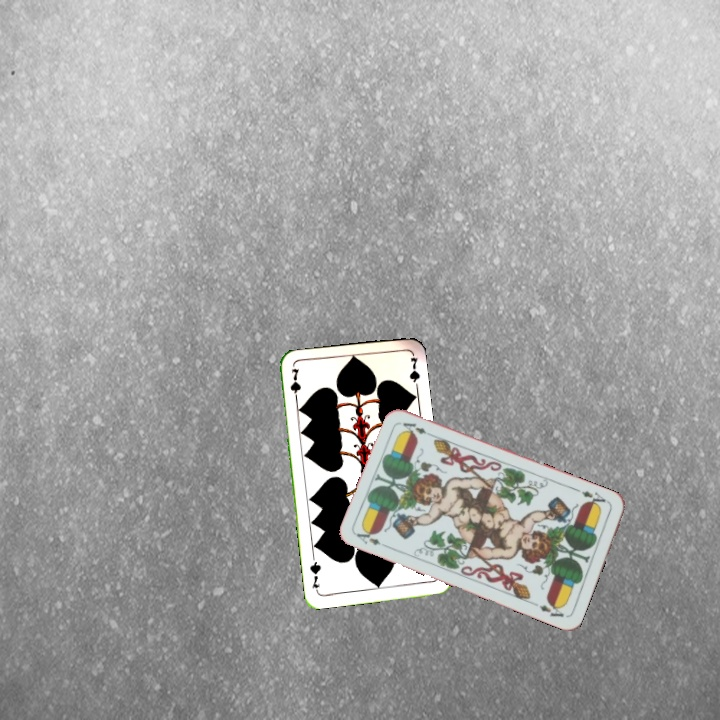EA: (352, 525, 392, 550), (577, 486, 612, 510)
G7: (286, 364, 303, 405)
